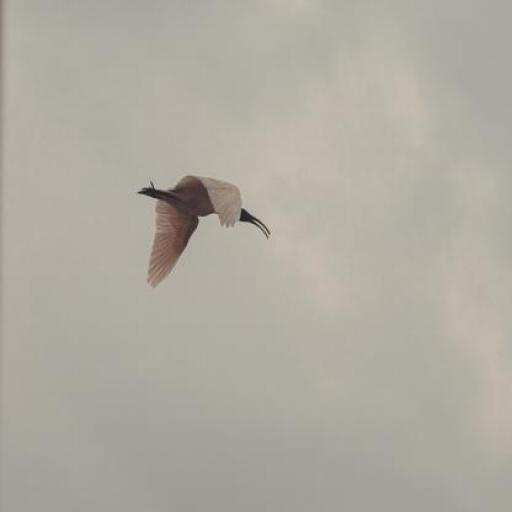bird: (137, 173, 271, 286)
